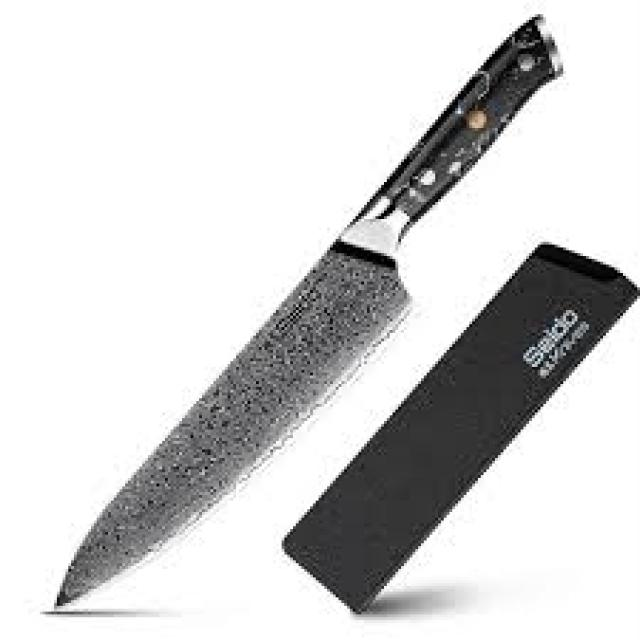Knife: (51, 11, 563, 609)
